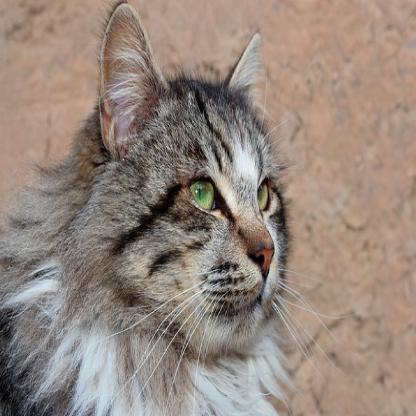cat: (69, 0, 299, 352)
